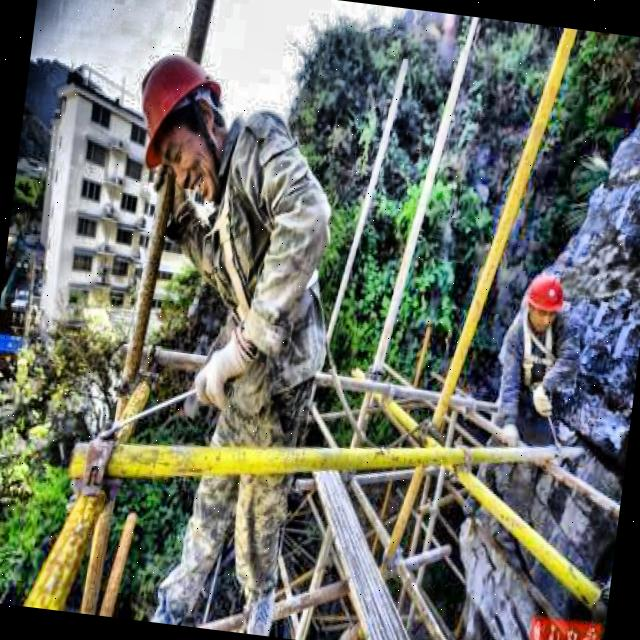helmet: (116, 29, 242, 218), (521, 266, 570, 339)
